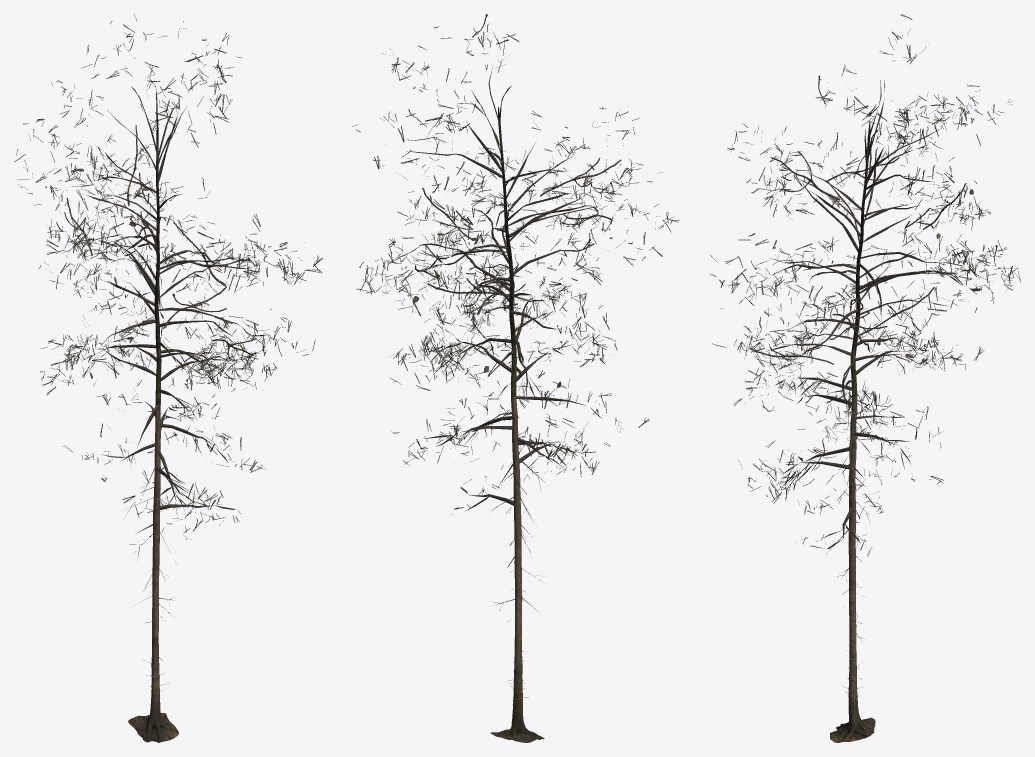
Rendered from pine_tree_01_far.glb.
3 views of the same model, side by side, from view 1: azimuth 30°, elevation 25°; view 2: azimuth 150°, elevation 25°; view 3: azimuth 270°, elevation 25° (orthographic). The views are drawn at different scales.
Visible parts, largest first — view 1: pine_tree_01_a_LOD0; view 2: pine_tree_01_a_LOD0; view 3: pine_tree_01_a_LOD0.
Boxes of the visible parts, x1=… form: pine_tree_01_a_LOD0: x1=14, y1=14, x2=323, y2=742; pine_tree_01_a_LOD0: x1=352, y1=14, x2=679, y2=742; pine_tree_01_a_LOD0: x1=710, y1=14, x2=1020, y2=742.
Bounding box in the file's own units: 7.47 × 20.12 × 7.98.
4 materials, 4 textured.
